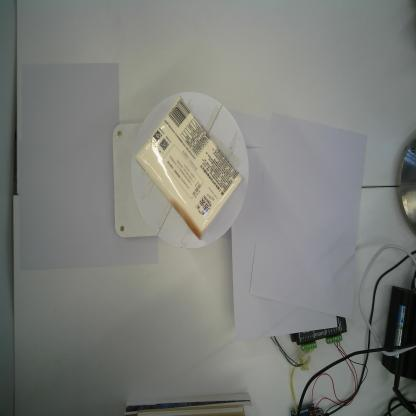Tissue: (134, 95, 246, 240)
